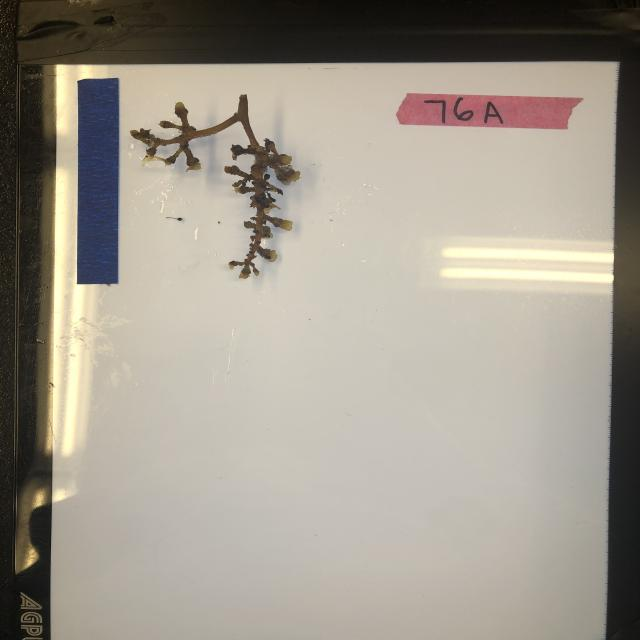index: (395, 91, 584, 130)
measure_label: (76, 76, 120, 287)
rachis_cluster: (130, 92, 302, 281)
